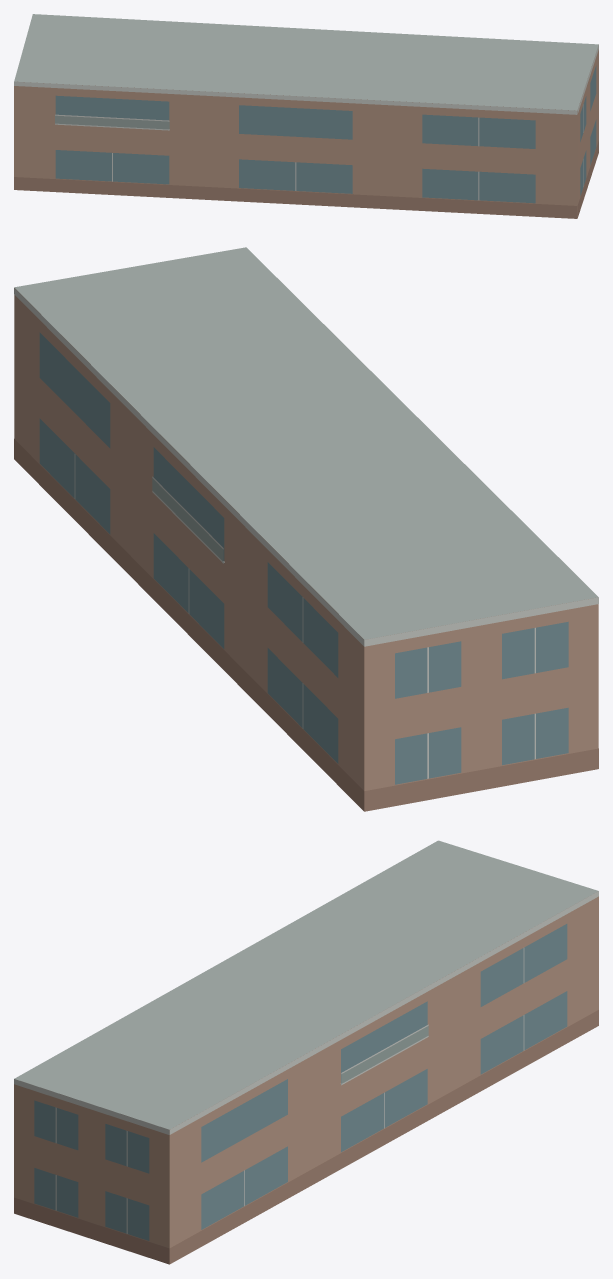
The model's file is survey-upis-32641699.glb.
The picture shows the model from 3 angles, top to bottom: view 1: azimuth 30°, elevation 25°; view 2: azimuth 150°, elevation 25°; view 3: azimuth 270°, elevation 25°; orthographic projection. The views are drawn at different scales.
Visible parts, largest first — view 1: survey-upis-32641699.tmp; view 2: survey-upis-32641699.tmp; view 3: survey-upis-32641699.tmp.
Part boxes in pixels (x1,y1,x2,y2): survey-upis-32641699.tmp: (14, 14, 598, 218); survey-upis-32641699.tmp: (14, 247, 598, 811); survey-upis-32641699.tmp: (14, 840, 598, 1264).
Size of the model in its own units: 28.1 by 6.1 by 24.
